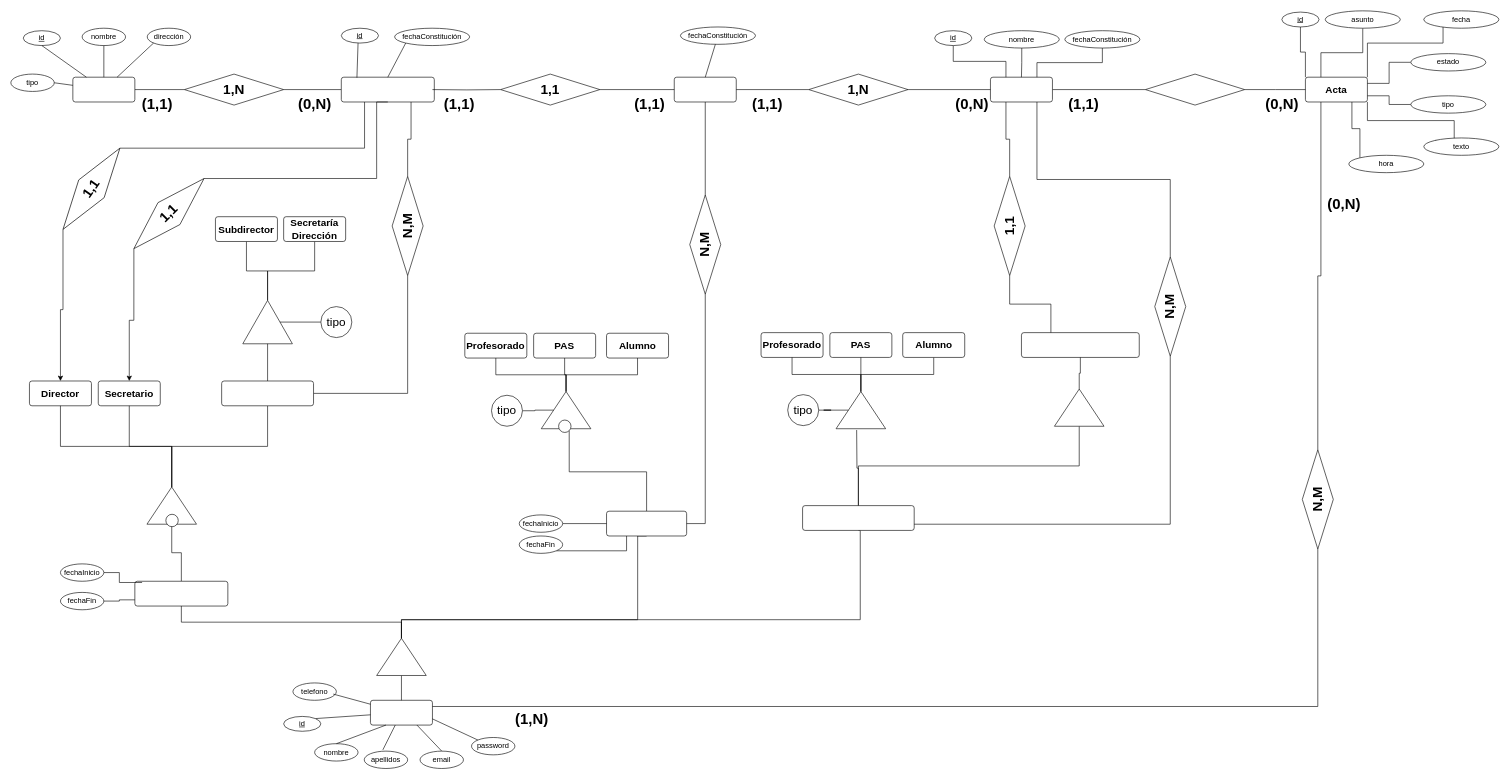
Some shapes in this 1510 by 779 pixel diagram are drawn without their labels. The shapes that lost their labels are listed below. From the top down, each one's box as (x1, y1, x2, y2) in pixels, then its label:
(72, 77, 135, 102): Centro
(341, 77, 434, 102): EquipoGobierno
(674, 77, 736, 102): Junta
(990, 77, 1052, 102): Comisión
(1145, 73, 1245, 105): N,1
(1021, 332, 1139, 357): Responsable
(221, 380, 314, 406): MiembroEquipo
(606, 511, 687, 536): MiembroJunta
(802, 505, 914, 530): MiembroComisión
(134, 581, 228, 606): MiembroGobierno
(370, 700, 432, 725): Usuario
